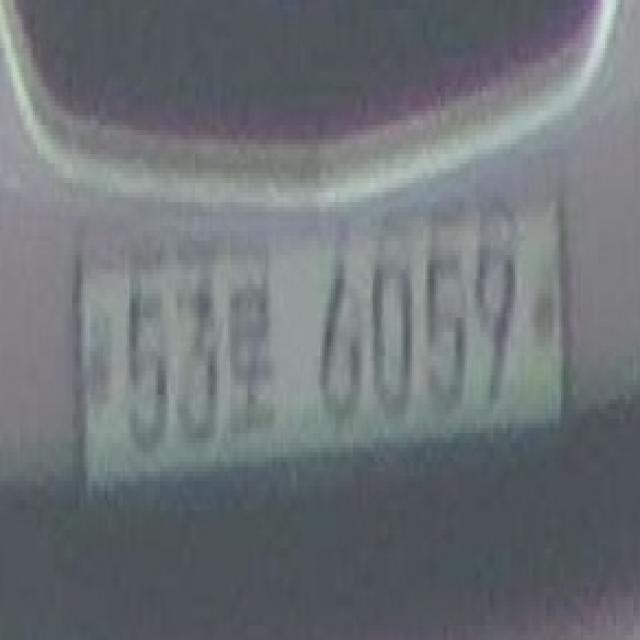0: (355, 241, 412, 433)
3: (167, 284, 219, 457)
5: (421, 236, 473, 433), (121, 274, 171, 467)
6: (309, 255, 366, 443)
9: (476, 251, 526, 424)
license_plate: (73, 188, 576, 500)
lo: (224, 264, 287, 442)
